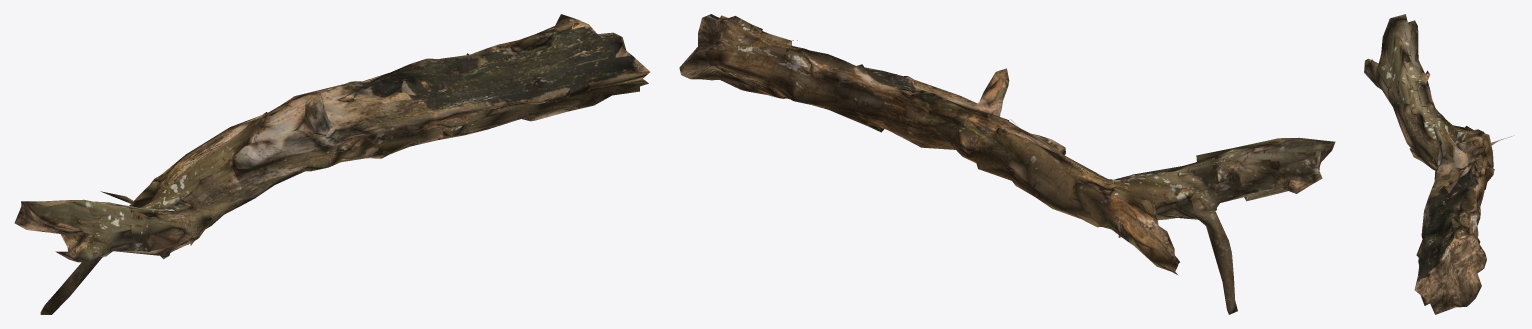
The model's file is dead_tree_trunk_02.glb.
3 views of the same model, side by side, from view 1: azimuth 30°, elevation 25°; view 2: azimuth 150°, elevation 25°; view 3: azimuth 270°, elevation 25° (orthographic). The views are drawn at different scales.
Visible parts, largest first — view 1: dead_tree_trunk_02; view 2: dead_tree_trunk_02; view 3: dead_tree_trunk_02.
Boxes of the visible parts, x1,y1,x2,y2 form: dead_tree_trunk_02: [14, 14, 649, 314]; dead_tree_trunk_02: [679, 14, 1335, 314]; dead_tree_trunk_02: [1364, 14, 1511, 314].
Bounding box in the file's own units: 4.05 × 1.04 × 1.04.
Materials: 1 (1 with a texture image).
